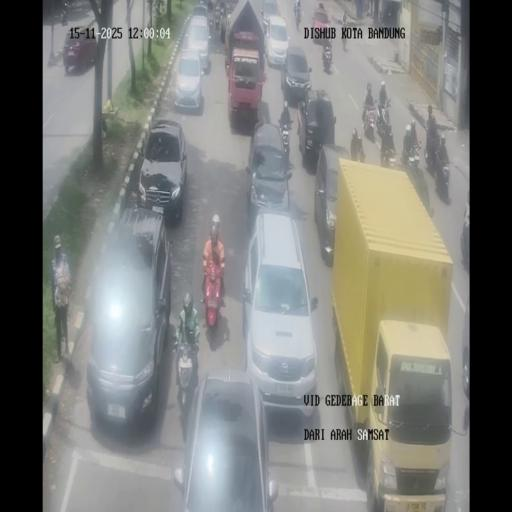car: (86, 208, 172, 432), (242, 211, 318, 418), (174, 366, 278, 508), (137, 119, 188, 224), (245, 120, 291, 226), (314, 143, 346, 261), (299, 89, 336, 170), (173, 49, 204, 114), (281, 44, 311, 104), (64, 25, 98, 75), (260, 0, 280, 36), (190, 2, 209, 36), (313, 9, 330, 40), (220, 4, 231, 43)
motorcycle: (174, 333, 199, 416), (203, 260, 223, 329), (376, 98, 393, 140), (435, 156, 450, 200), (362, 101, 377, 142), (405, 142, 423, 176), (424, 136, 438, 176), (279, 120, 292, 160), (460, 217, 469, 271), (380, 140, 396, 168), (321, 42, 333, 73), (298, 94, 308, 125), (352, 140, 366, 162), (410, 120, 420, 150), (426, 105, 436, 135), (206, 4, 215, 30), (214, 3, 222, 29), (60, 3, 68, 26), (294, 8, 301, 32), (154, 0, 165, 15), (342, 24, 348, 51), (224, 50, 230, 76), (401, 145, 408, 166), (364, 4, 372, 17), (378, 9, 384, 23), (342, 11, 347, 25), (199, 0, 206, 8), (319, 0, 324, 9)
truck: (330, 162, 454, 496), (226, 38, 265, 128)
